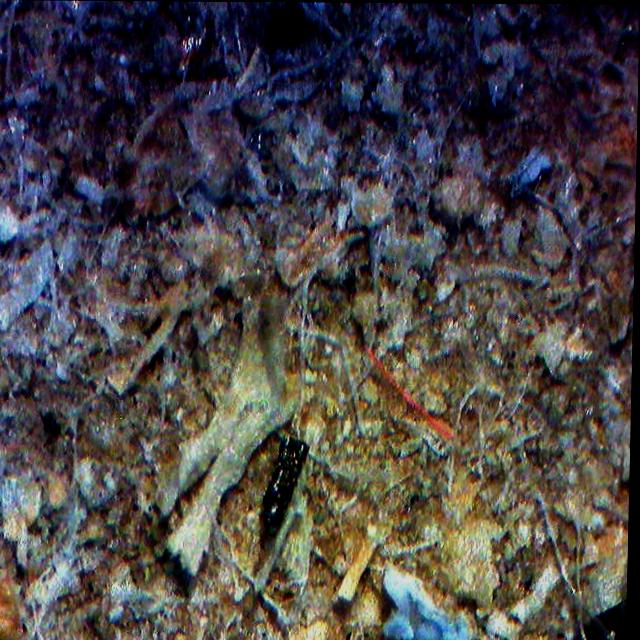microplastic: (372, 349, 455, 437)
